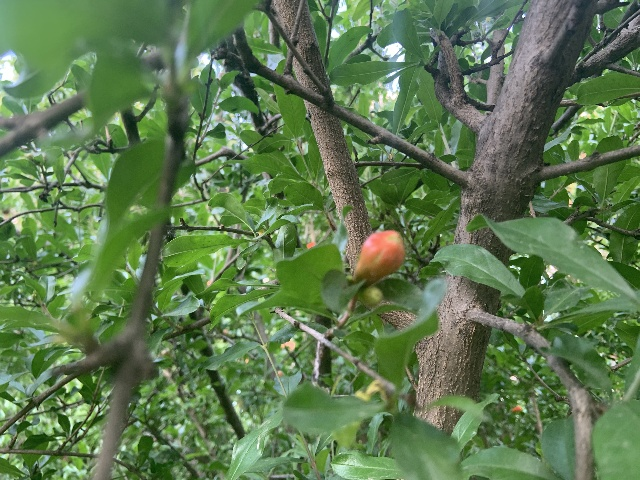bud: (352, 230, 404, 285)
